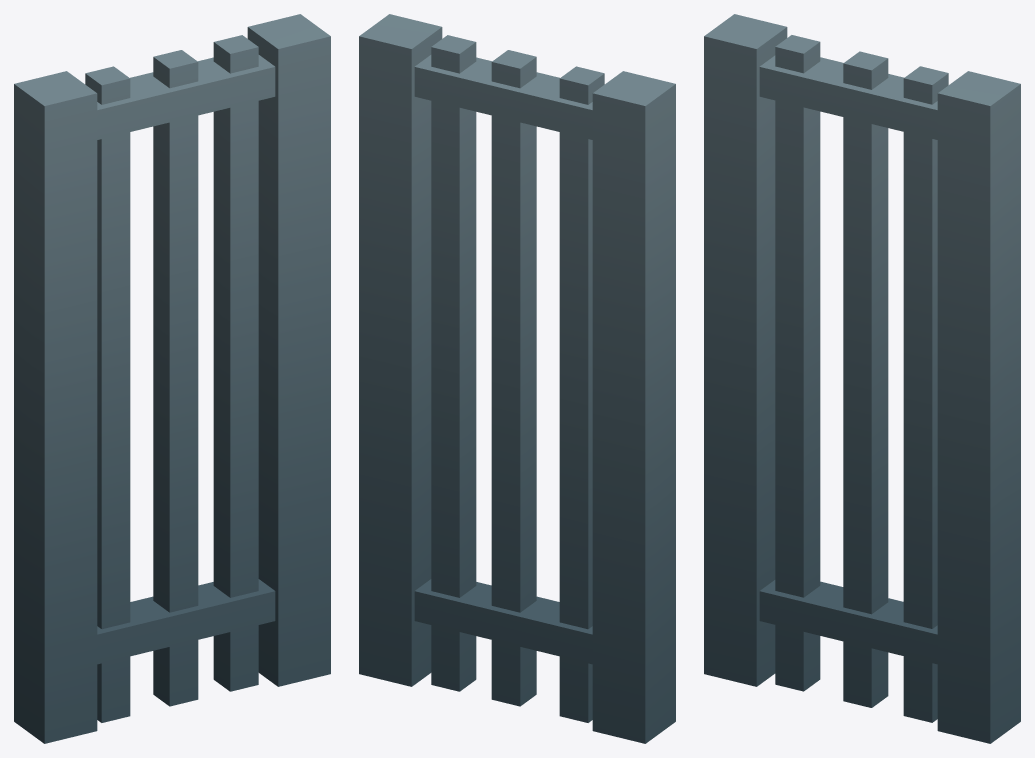
The model's file is gate_small_section.fbx.
3 views of the same model, side by side, from view 1: azimuth 30°, elevation 25°; view 2: azimuth 150°, elevation 25°; view 3: azimuth 330°, elevation 25° (orthographic).
Parts seen in each view (by area): view 1: gate_small_section; view 2: gate_small_section; view 3: gate_small_section.
Boxes of the visible parts, box(x1,y1,x2,y2) form: gate_small_section: box(14, 14, 330, 743); gate_small_section: box(359, 14, 675, 743); gate_small_section: box(704, 14, 1020, 743).
Bounding box in the file's own units: 149 × 317 × 27.48.
